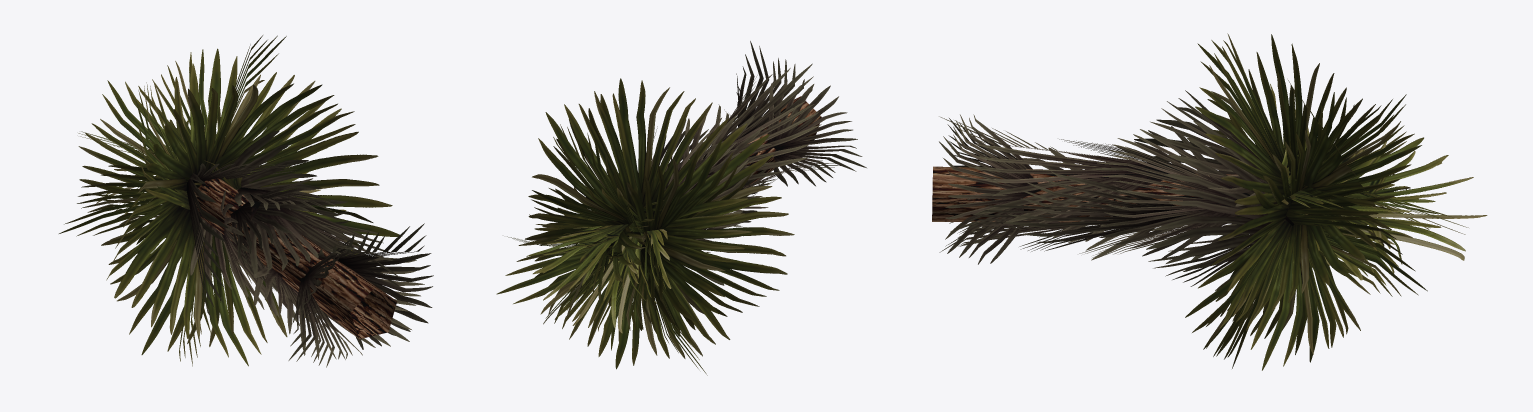
Rendered from MEP_Pandani_01.fbx.
3 views of the same model, side by side, from view 1: azimuth 30°, elevation 25°; view 2: azimuth 150°, elevation 25°; view 3: azimuth 270°, elevation 25° (orthographic). The views are drawn at different scales.
Visible parts, largest first — view 1: MEP_Pandani_01, Pandani_Bark_01; view 2: MEP_Pandani_01, Pandani_Bark_01; view 3: MEP_Pandani_01, Pandani_Bark_01.
Boxes of the visible parts, bbox=[...] form: MEP_Pandani_01: bbox=[59, 35, 433, 367]; Pandani_Bark_01: bbox=[194, 178, 396, 339]; MEP_Pandani_01: bbox=[496, 41, 866, 375]; Pandani_Bark_01: bbox=[728, 96, 821, 187]; MEP_Pandani_01: bbox=[939, 33, 1487, 370]; Pandani_Bark_01: bbox=[932, 166, 1237, 222].
Bounding box in the file's own units: 3.53 × 3.33 × 5.15.
